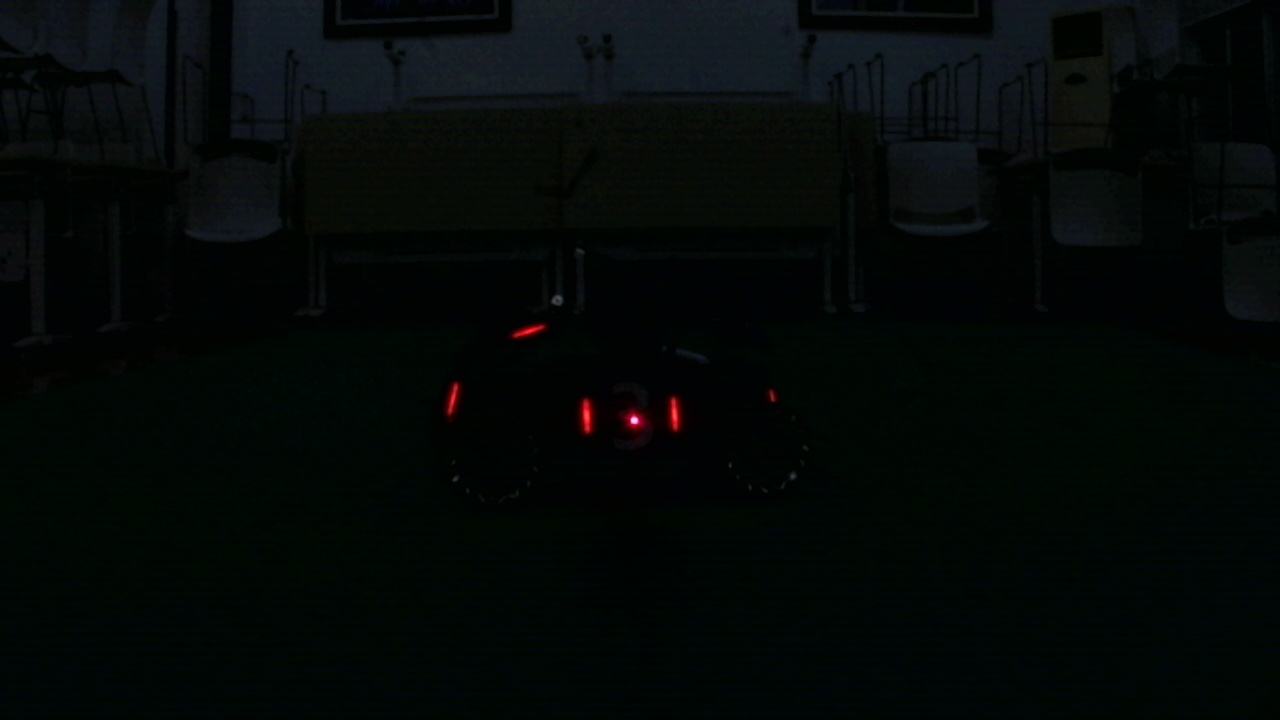lamp: (664, 389, 681, 430), (575, 397, 594, 433), (446, 376, 459, 418)
pair1: (580, 397, 686, 434)
